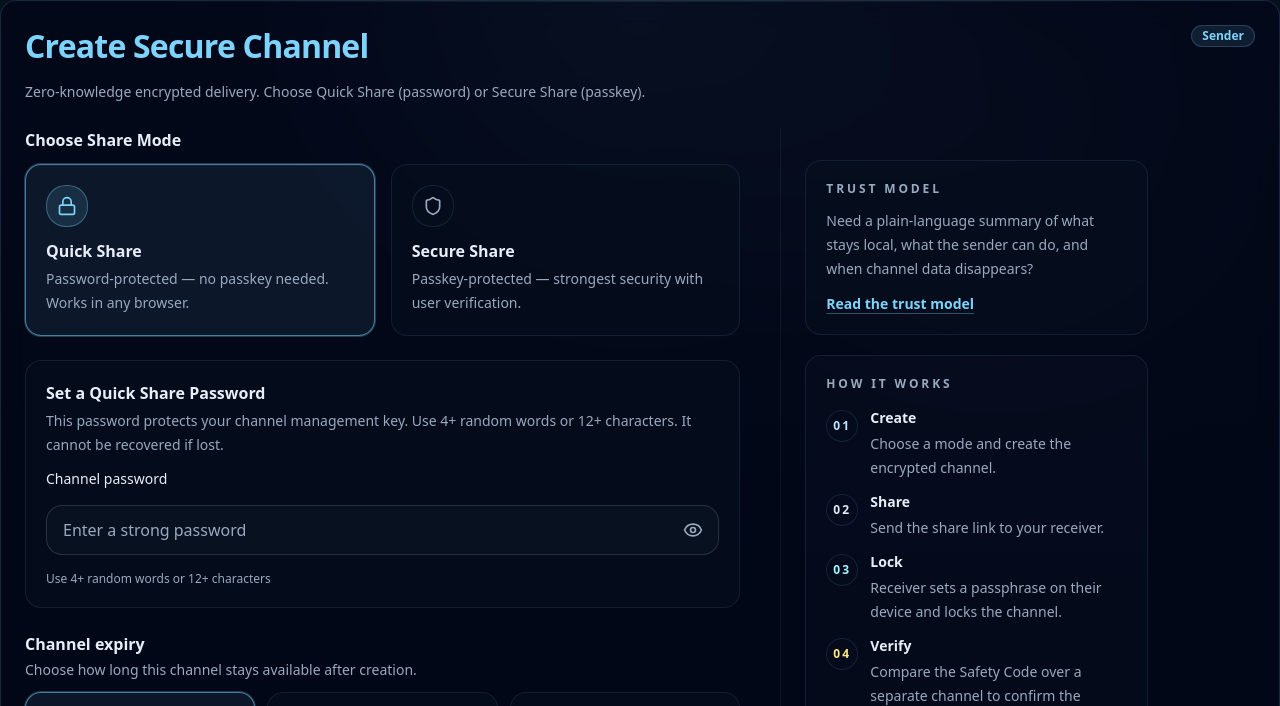
Test: CreatePage integration › shows share and manage links after successful creation (Secure mode)
Click the button with test id "mode-card-secure" at [433, 206], box [391,164,740,336]
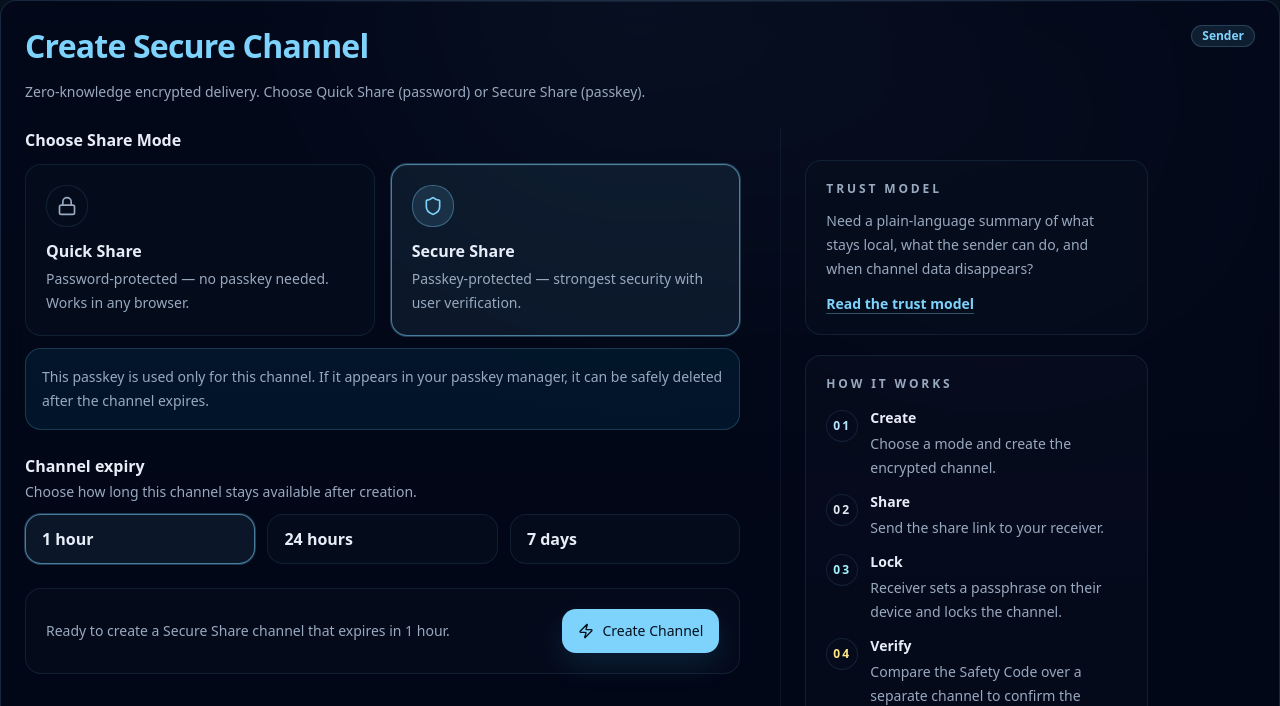
Click the button with test id "create-submit-button" at [641, 631], box [562,609,719,653]
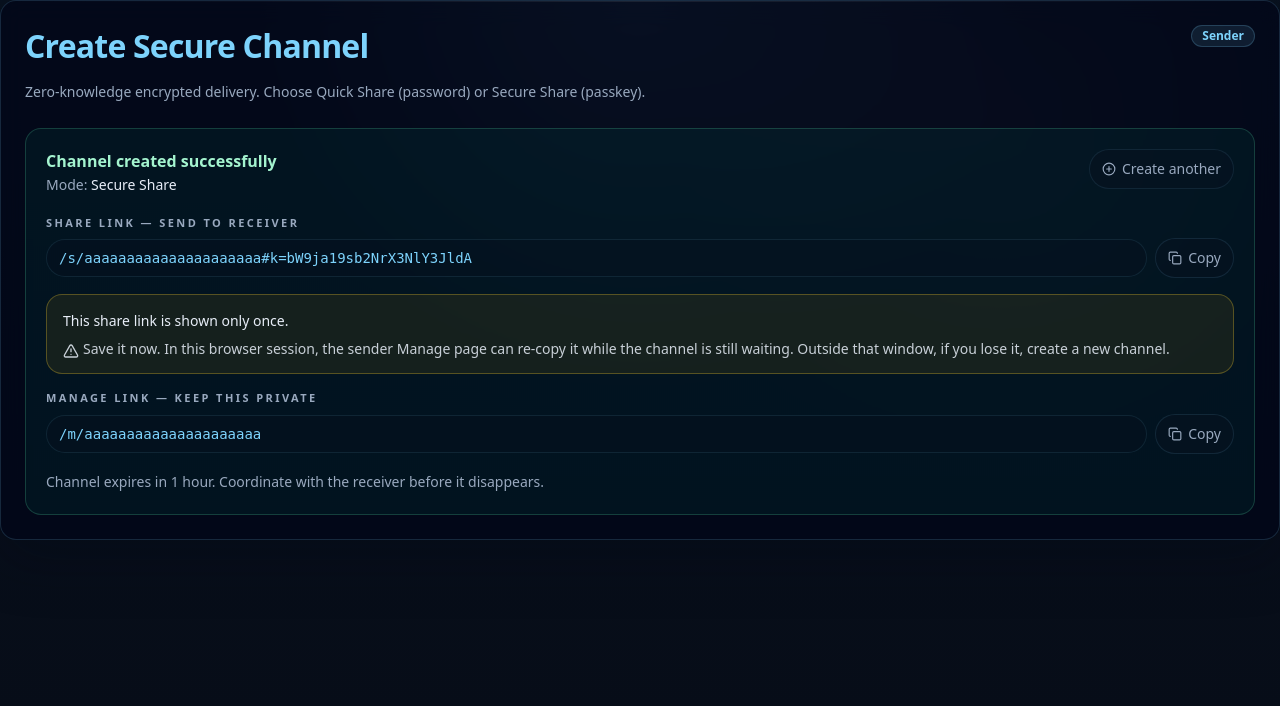
Now the text "/s/aaaaaaaaaaaaaaaaaaaaa#k=bW9ja19sb2NrX3NlY3JldA" is shown, box [46,239,1147,277]
Now the link with test id "create-success-manage-link" is shown, box [46,415,1147,453]
